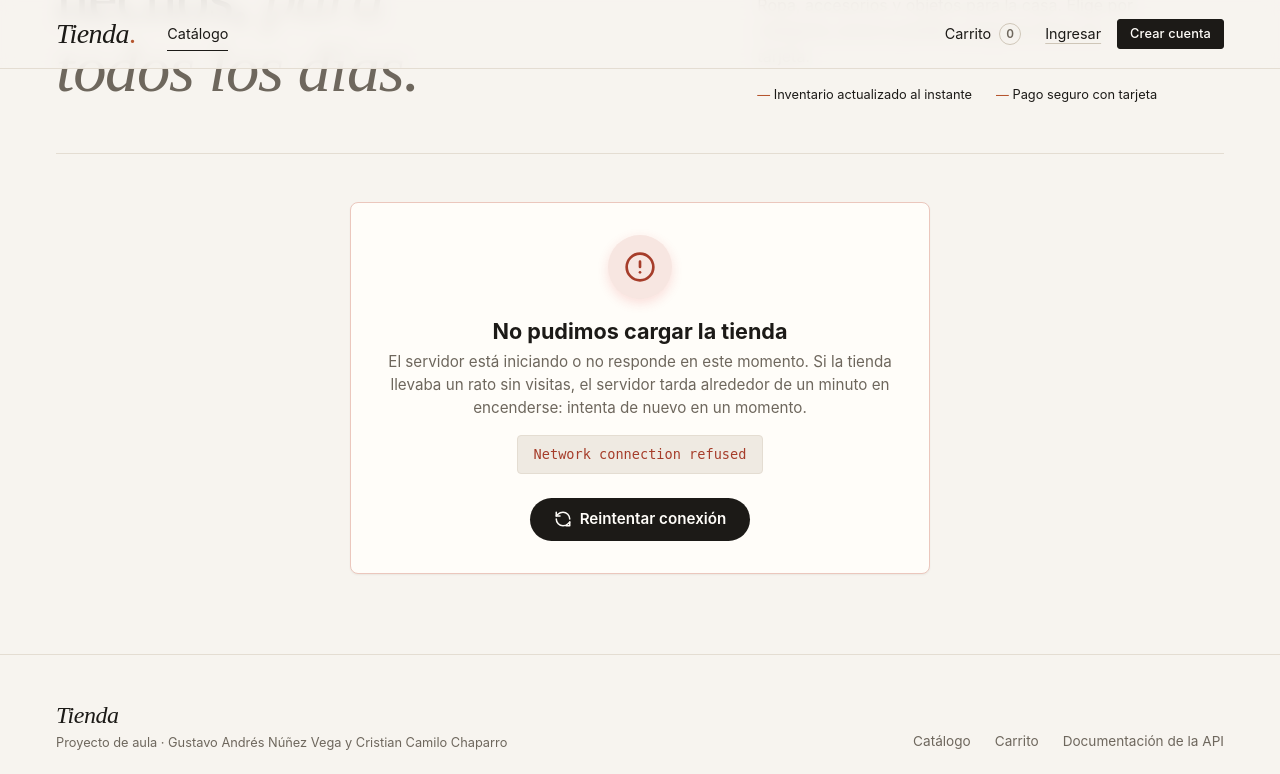
Test case: Casos límite del frontend y contrato con la API › 6. Full App Integration & Reactive State Transitions › App handles backend error, renders ErrorState, and recovers when retry succeeds
This screenshot has width=1280, height=774.
(page scrolled)
Expected: the heading "No pudimos cargar la tienda" is shown, x1=492 y1=315 x2=788 y2=347
Expected: the text "Network connection refused" is shown, x1=517 y1=435 x2=763 y2=474
// Click retry button
Click the button "Reintentar conexión" at (640, 519), box x1=530 y1=498 x2=750 y2=541
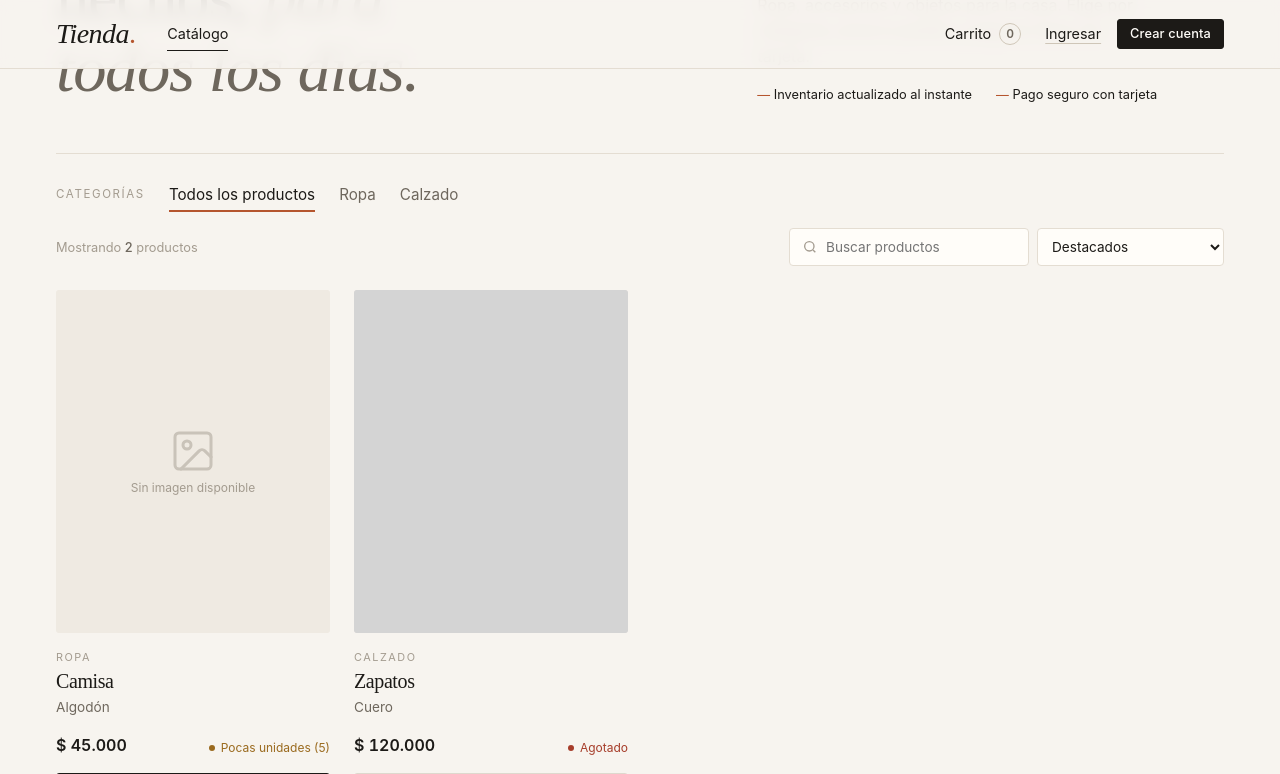
Result: the heading "Camisa" is shown at x1=56 y1=670 x2=114 y2=692
Result: the heading "No pudimos cargar la tienda" is gone
